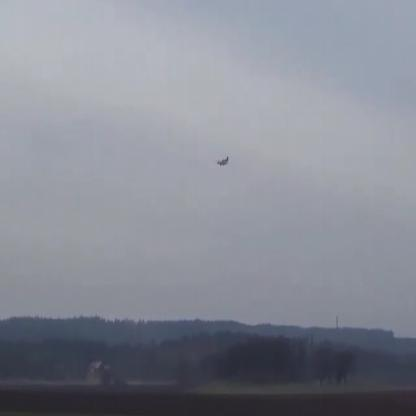CIV_Plane: (215, 155, 229, 167)
